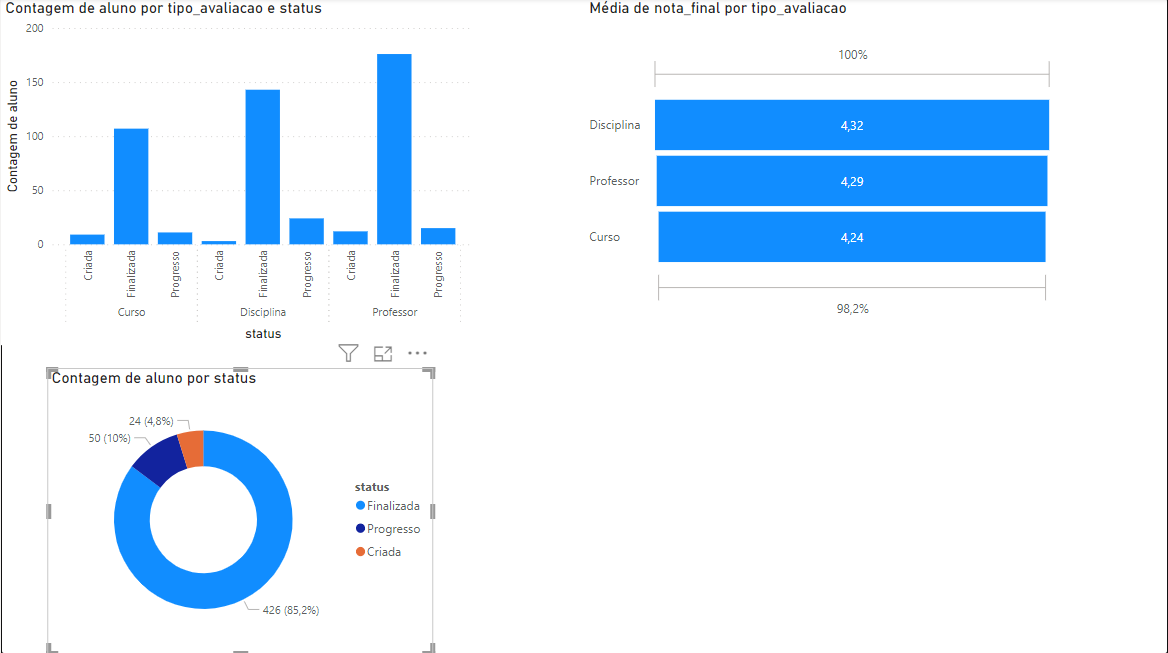

This screenshot's page, from the dashboard's own definition file:
{"tool":"powerbi","page":{"name":"Página 1","canvas":[1280,720],"ordinal":0},"visuals":[{"type":"columnChart","fields":{"Category":["public avaliacao.tipo_avaliacao","public avaliacao.status"],"Y":["CountNonNull(public avaliacao.aluno)"]},"box":[0,0,523.7,381.2],"z":0},{"type":"funnel","fields":{"Category":["public avaliacao.tipo_avaliacao"],"Y":["Avg(public avaliacao.nota_final)"]},"box":[640.3,0,519.6,381.2],"z":1},{"type":"donutChart","fields":{"Category":["public avaliacao.status"],"Y":["CountNonNull(public avaliacao.aluno)"]},"box":[50.7,405.8,423.7,314],"z":2}]}

Visuals, with their boxes in screenshot pixels (x1, y1, x2, y2), scaled from the page's 1280x720 canvas onto the 1168x653 screenshot:
columnChart - public avaliacao.tipo_avaliacao x public avaliacao.status: [0, 0, 478, 346]
funnel - public avaliacao.tipo_avaliacao x Avg(public avaliacao.nota_final): [584, 0, 1058, 346]
donutChart - public avaliacao.status x CountNonNull(public avaliacao.aluno): [46, 368, 433, 652]
